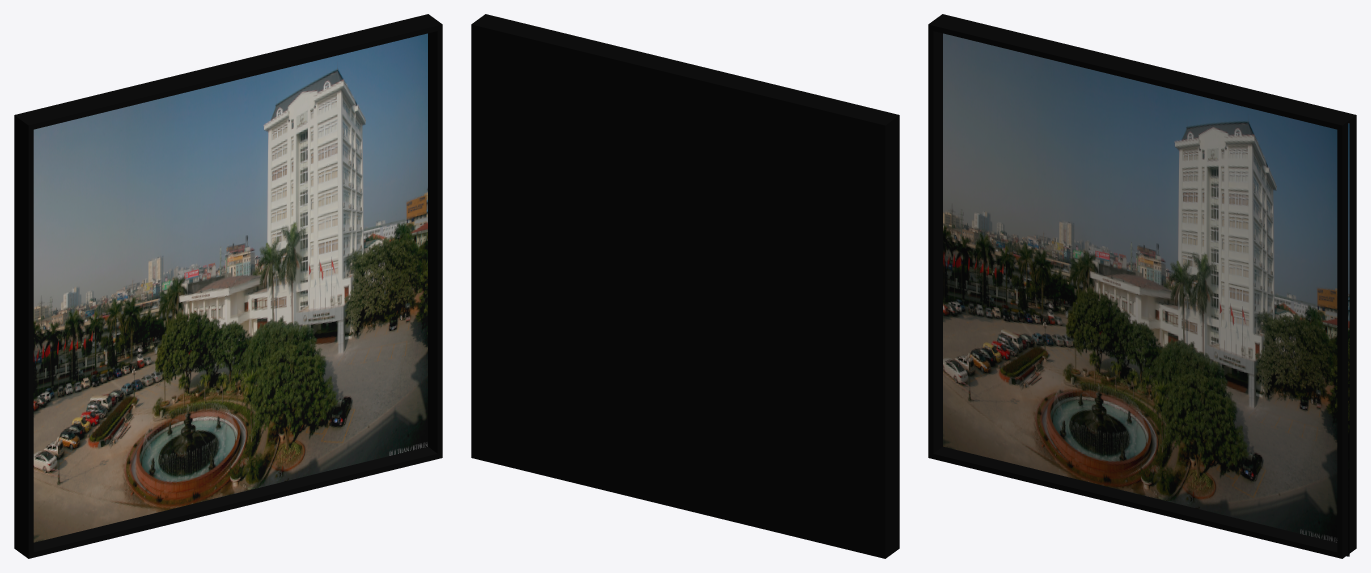
File: DieuHanh.obj
3 renders of one model, left to right at view 1: azimuth 30°, elevation 25°; view 2: azimuth 150°, elevation 25°; view 3: azimuth 330°, elevation 25°, orthographic.
Visible parts, largest first — view 1: Plane, Cube; view 2: Cube; view 3: Plane, Cube.
Boxes of the visible parts, <box> form: Plane: <box>33,33,427,542</box>; Cube: <box>14,14,442,558</box>; Cube: <box>471,14,899,558</box>; Plane: <box>943,33,1349,556</box>; Cube: <box>928,14,1356,558</box>.
Size of the model in its own units: 1 by 1 by 0.06.
2 materials, 1 textured.
